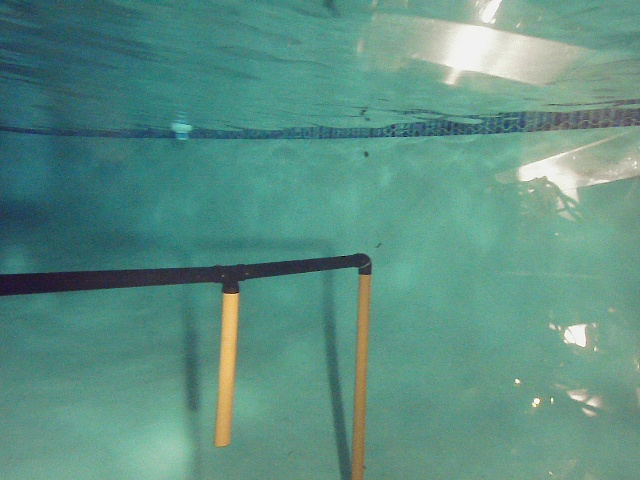Gate: (346, 273, 371, 480), (211, 290, 242, 447)
